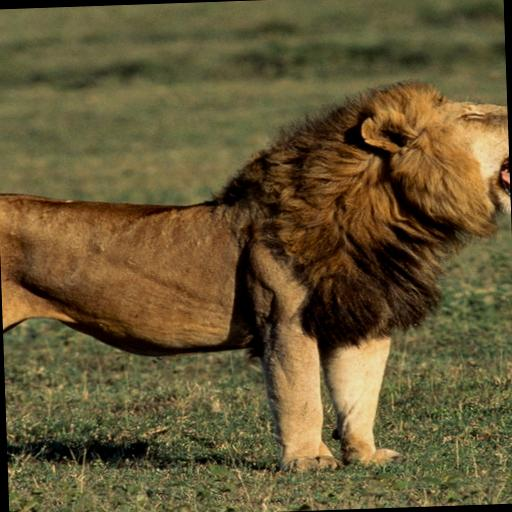lions: (14, 68, 512, 501)
